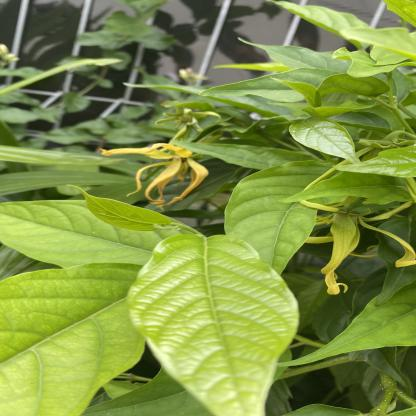Kenanga: (114, 130, 217, 209), (315, 202, 396, 255)
